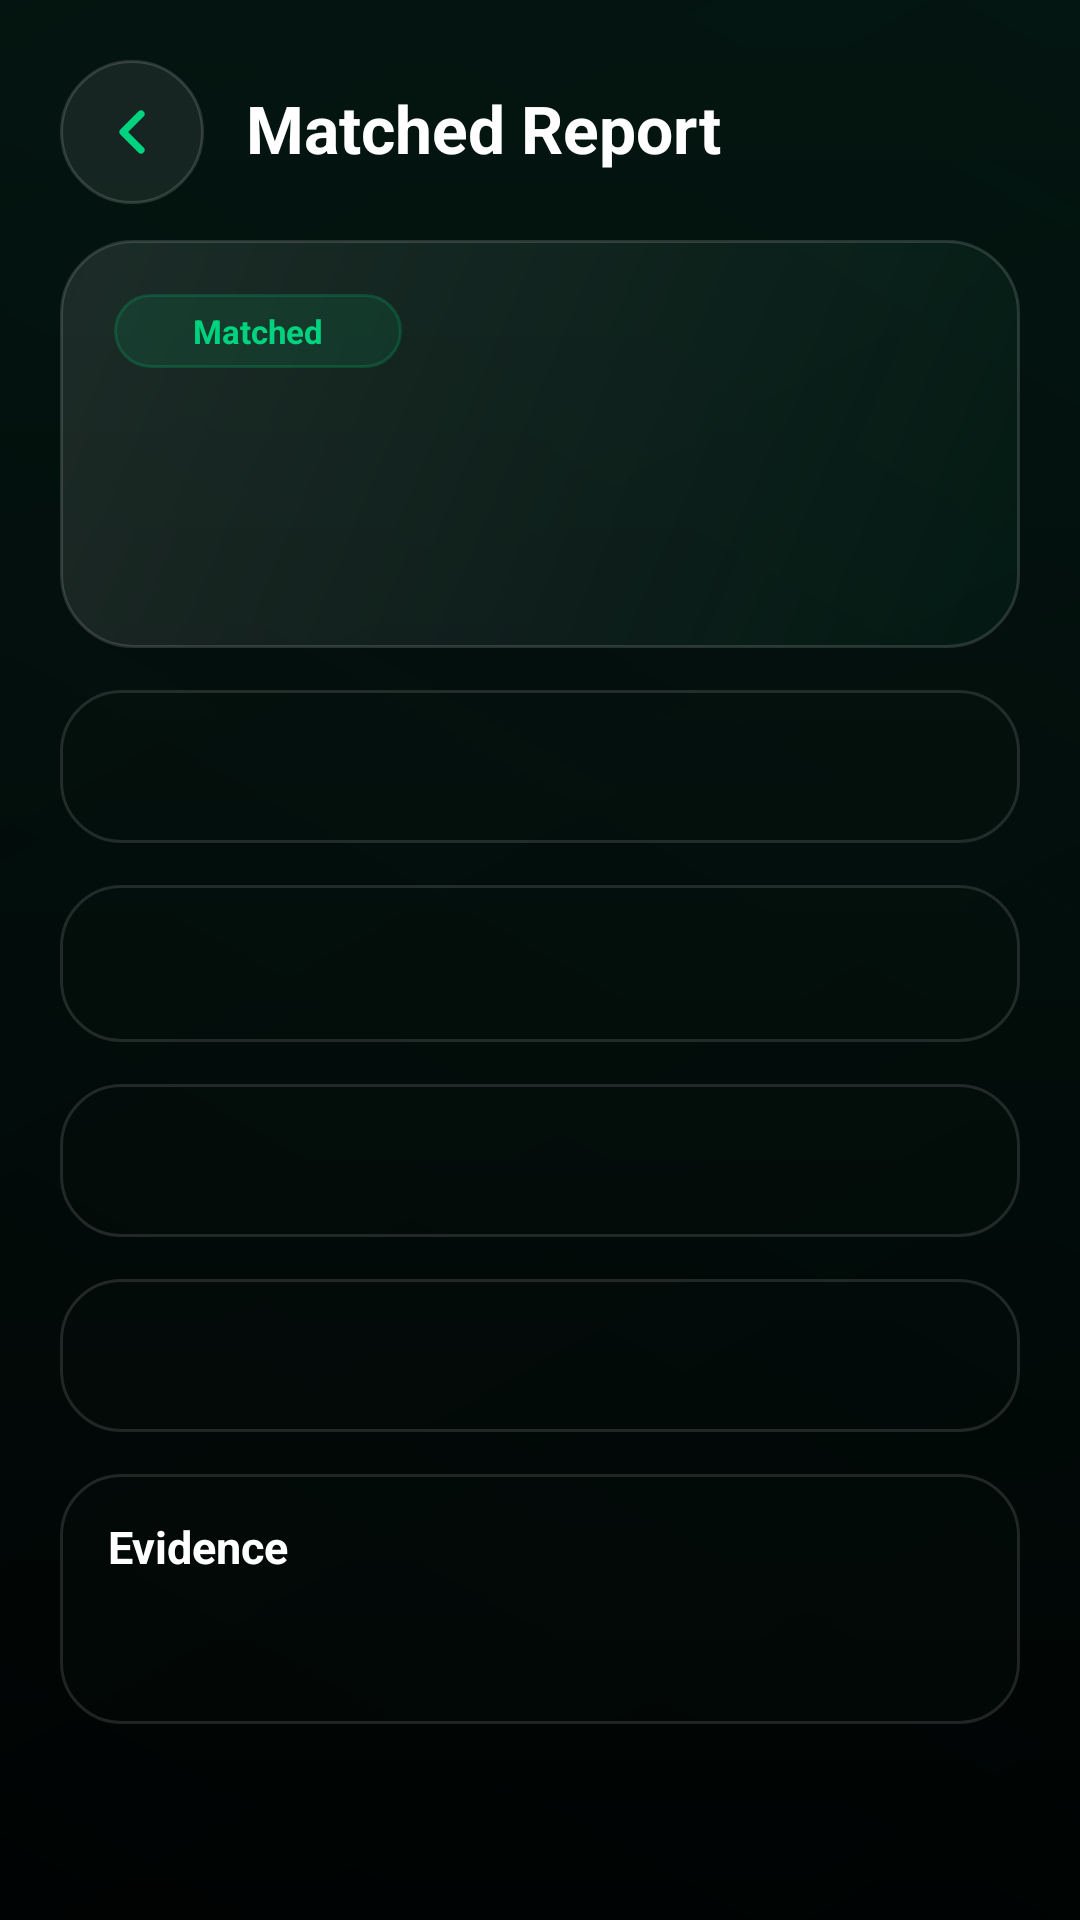

Point at icon controls on the screen. Image size 1080 × 1920, points as [x,y].
Back: [132,132]
